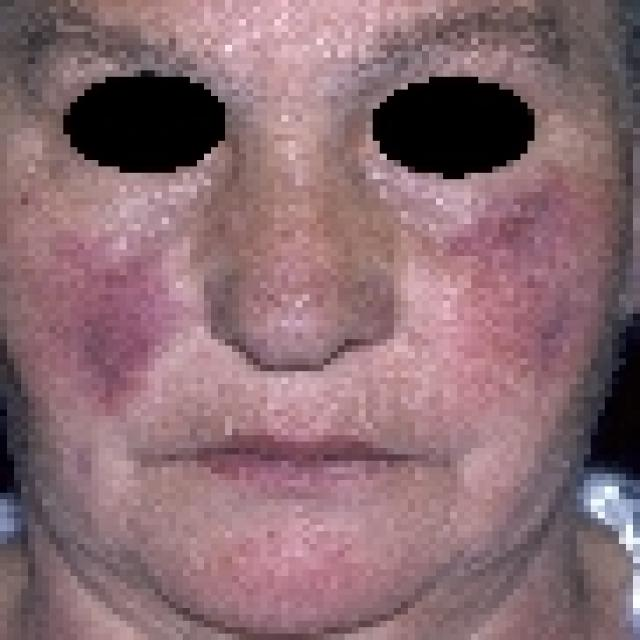lupus: (11, 183, 604, 424)
